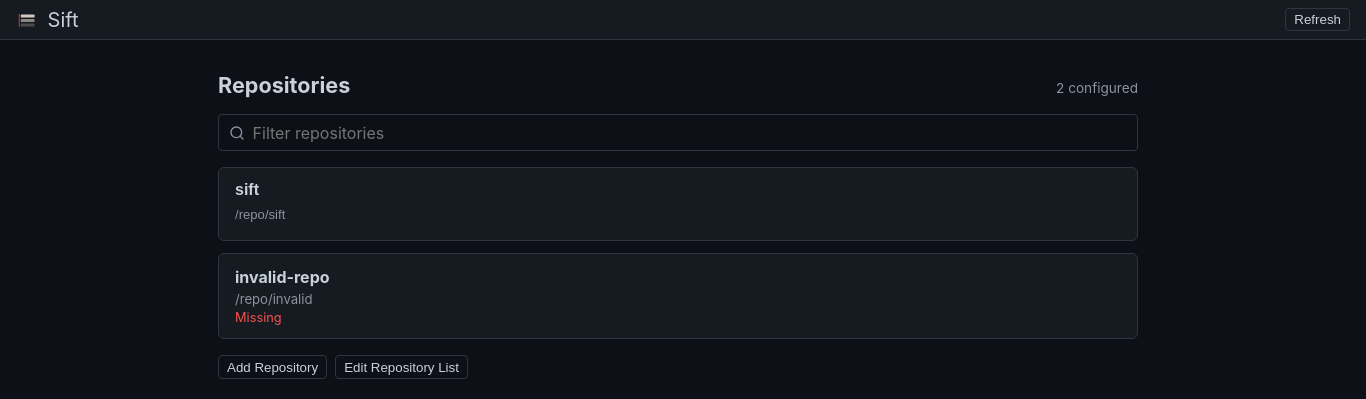
Test: RepositorySelection › commits pending deletes on Done
The width and height of the screenshot is (1366, 399).
Click the button "Edit Repository List" at (402, 367), box 335,355 -> 468,379
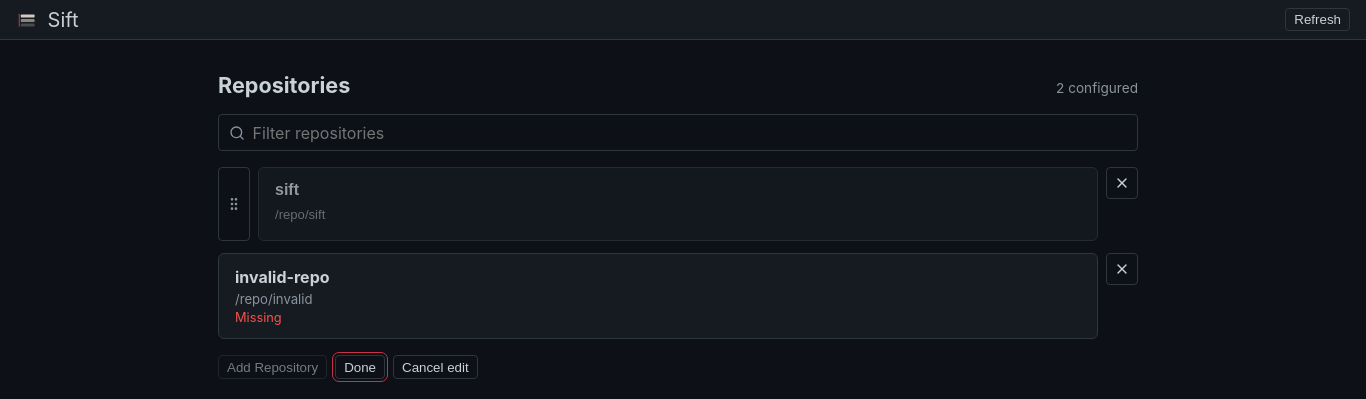
Click the button named "Remove invalid-repo" at (1122, 269), box 1106,253 -> 1138,285
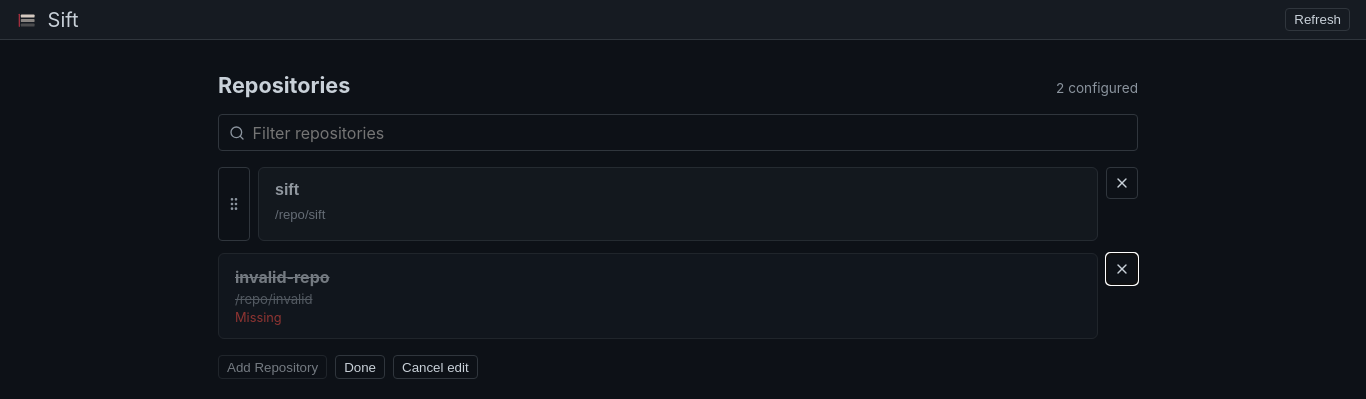
Click the button "Done" at (360, 367), box 335,355 -> 385,379
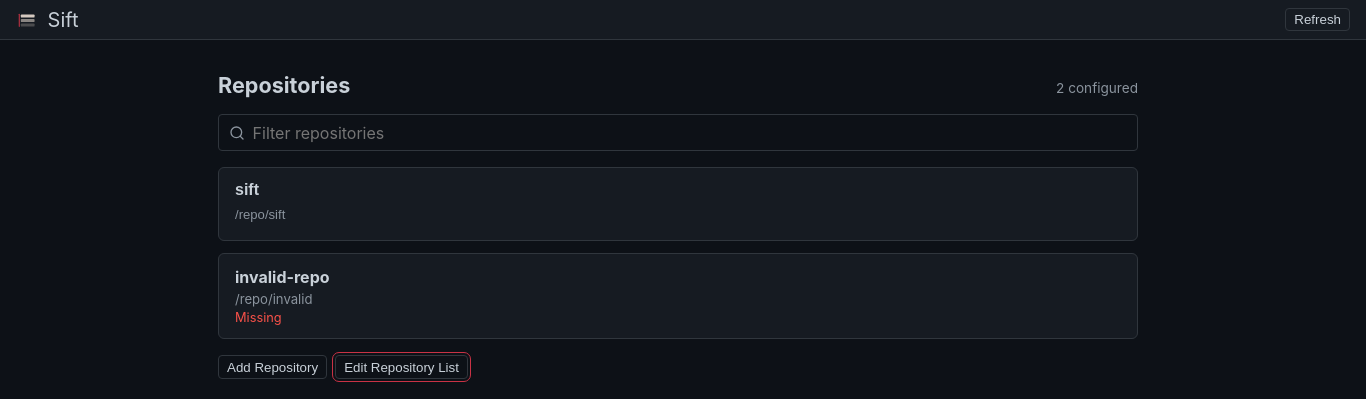
Check: the button "Edit Repository List" is shown, box 335,355 -> 468,379
